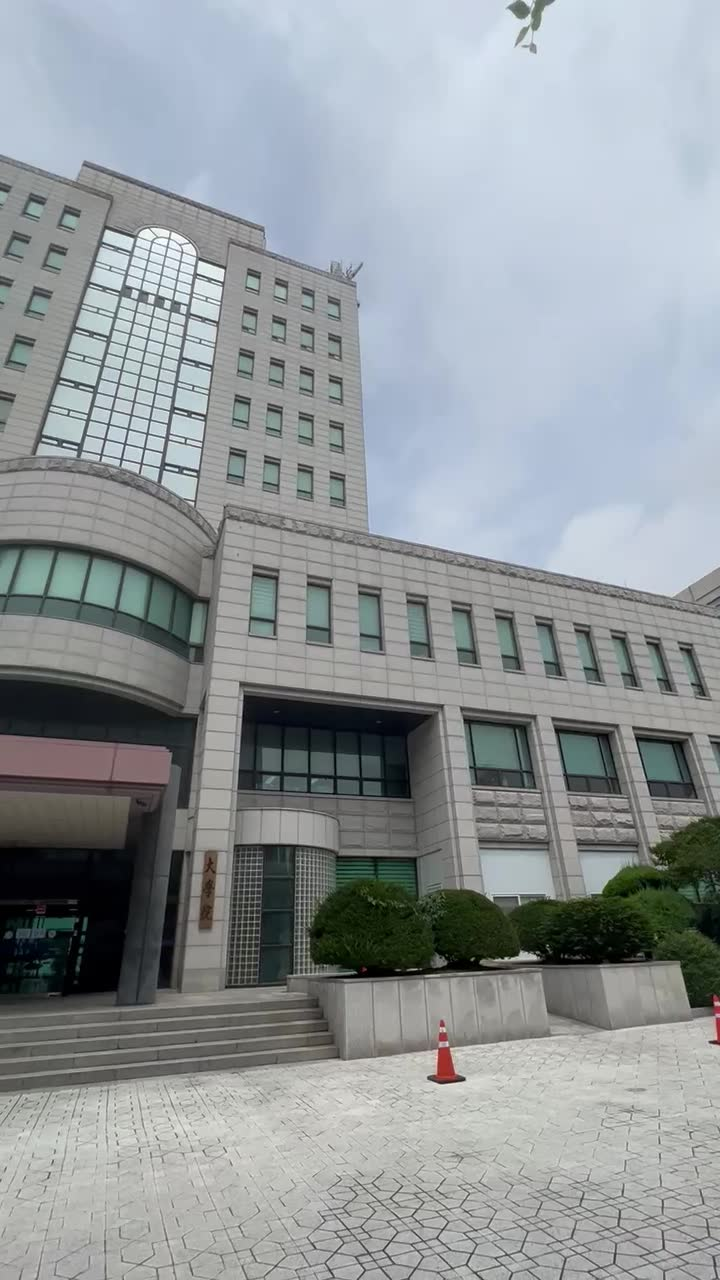low: (12, 172, 416, 842)
